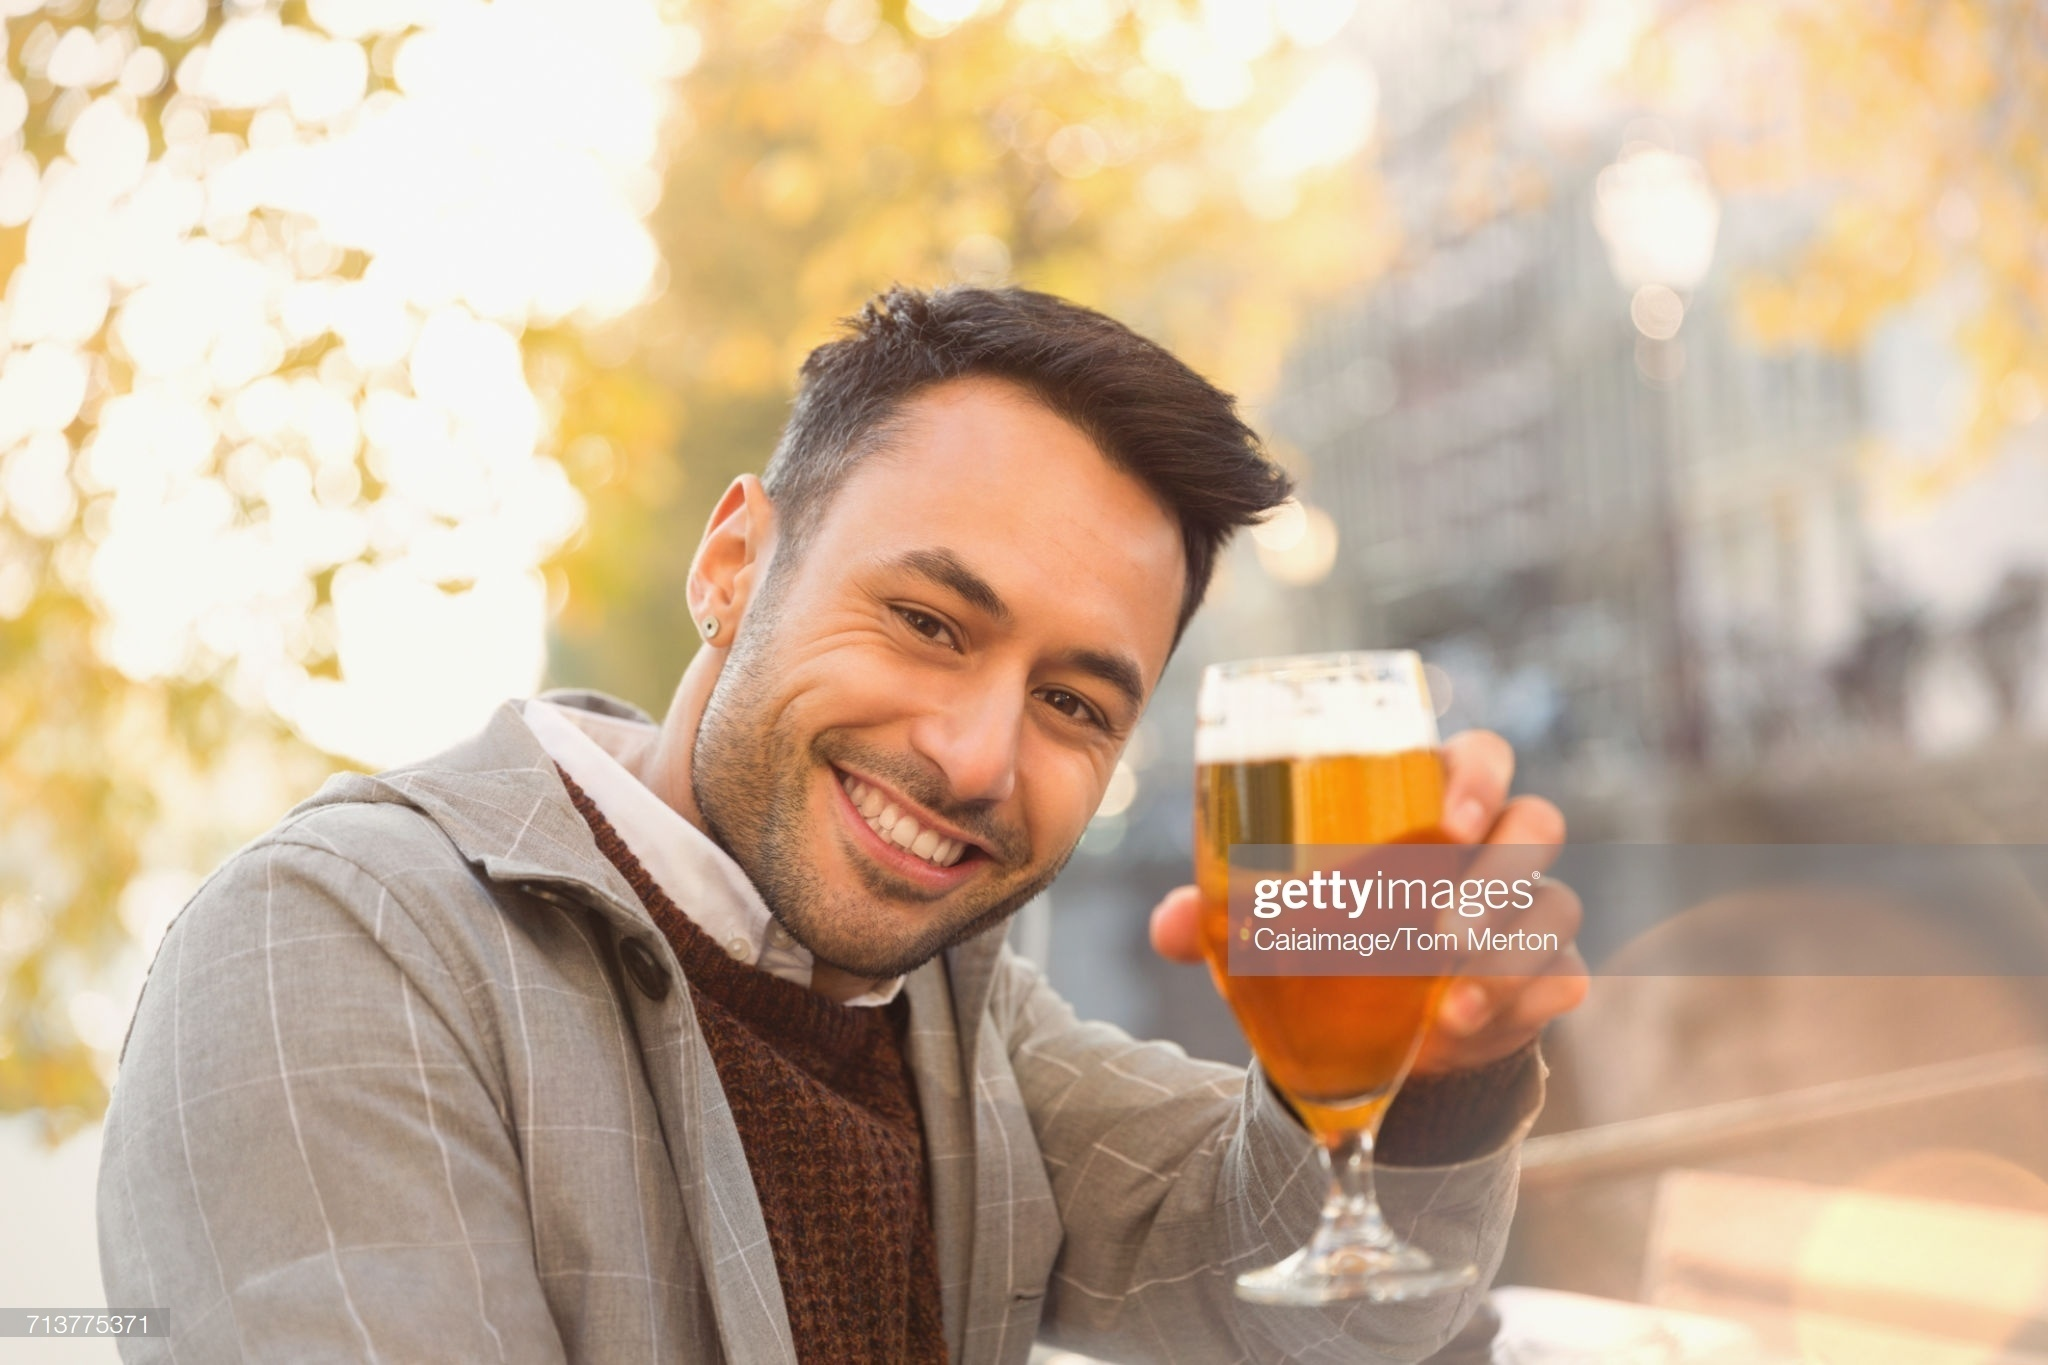whiskey: (1201, 615, 1450, 1251)
